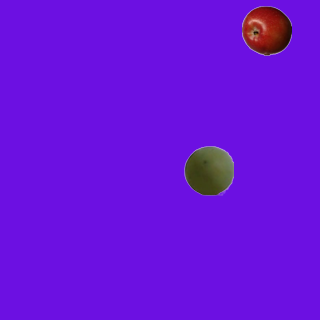Apple Braeburn: (241, 5, 291, 55)
Grape White 4: (183, 145, 233, 195)
